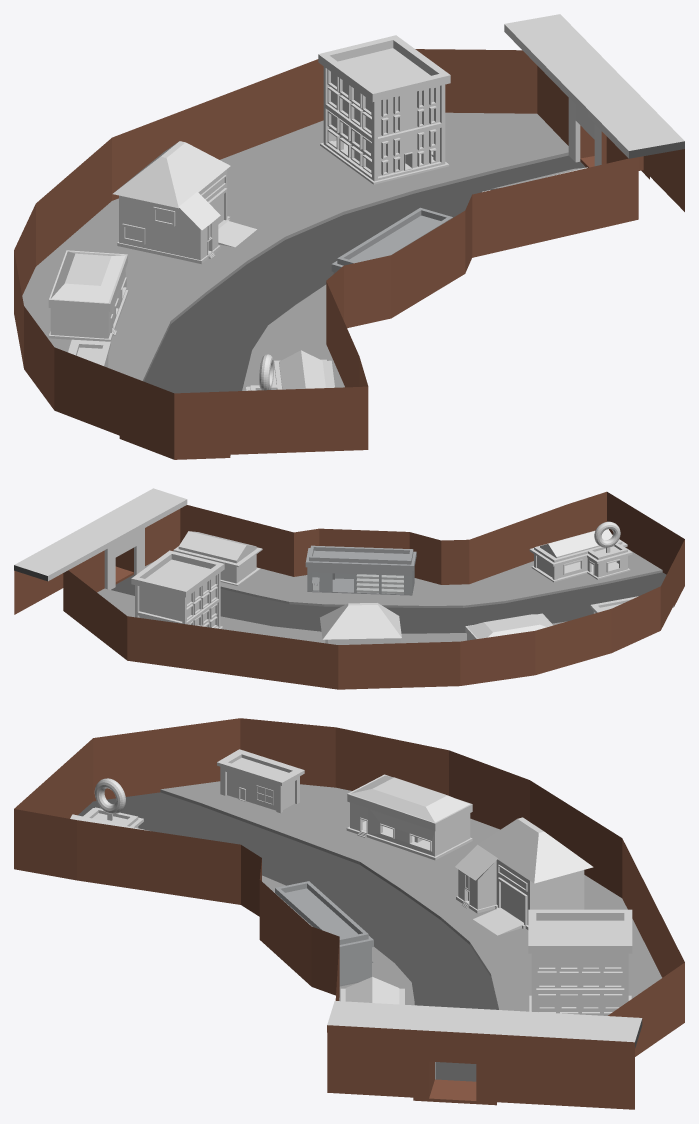
Rendered from FPS_LEVEL_SECTION-2.fbx.
3 views of the same model, one above another, from view 1: azimuth 30°, elevation 25°; view 2: azimuth 150°, elevation 25°; view 3: azimuth 270°, elevation 25° (orthographic). The views are drawn at different scales.
Visible parts, largest first — view 1: Cube, Cube.002, Cube.003, Exterior, Cube.004, Cube.005, Cube.001; view 2: Cube, Cube.002, Cube.004, Cube.005, Cube.003, Cube.006, Exterior, Torus; view 3: Cube, Cube.002, Cube.003, Exterior, Cube.004, Cube.001, Cube.006, Cube.005, Torus.
Part boxes in pixels (left/top/right/bottom): Cube: left=14, top=14, right=684, bottom=459; Cube.002: left=318, top=35, right=450, bottom=184; Cube.003: left=113, top=141, right=256, bottom=263; Exterior: left=48, top=250, right=128, bottom=341; Cube.004: left=331, top=207, right=452, bottom=273; Cube.005: left=246, top=350, right=334, bottom=390; Cube.001: left=68, top=339, right=110, bottom=367; Cube: left=14, top=488, right=684, bottom=689; Cube.002: left=131, top=550, right=224, bottom=628; Cube.004: left=305, top=545, right=416, bottom=595; Cube.005: left=529, top=529, right=632, bottom=582; Cube.003: left=320, top=603, right=401, bottom=644; Cube.006: left=173, top=531, right=262, bottom=585; Exterior: left=465, top=613, right=553, bottom=640; Torus: left=594, top=521, right=620, bottom=547; Cube: left=14, top=718, right=684, bottom=1109; Cube.002: left=528, top=909, right=632, bottom=1015; Cube.003: left=455, top=817, right=593, bottom=935; Exterior: left=346, top=774, right=472, bottom=860; Cube.004: left=273, top=881, right=373, bottom=986; Cube.001: left=217, top=749, right=304, bottom=813; Cube.006: left=340, top=977, right=404, bottom=1004; Cube.005: left=70, top=807, right=148, bottom=830; Torus: left=94, top=778, right=125, bottom=814.
Size of the model in its own units: 17848 by 2261 by 15270.
